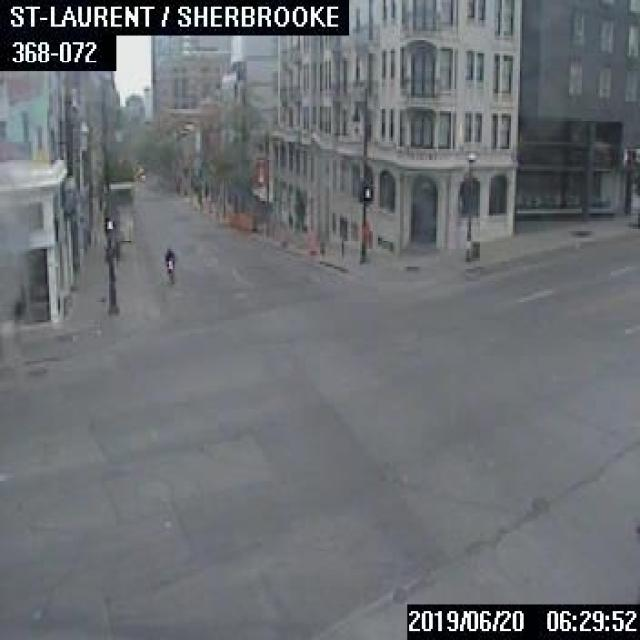cyclist: (162, 247, 175, 284)
